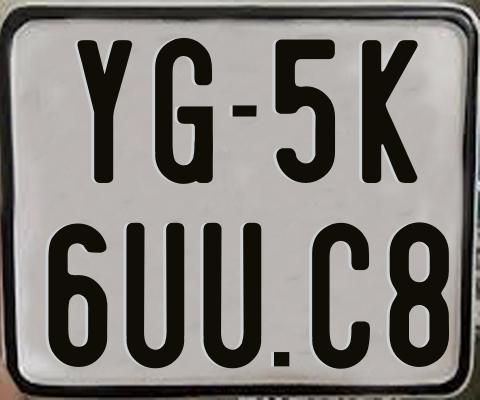5: (275, 36, 341, 185)
6: (48, 223, 111, 371)
8: (386, 221, 450, 371)
C: (312, 221, 370, 372)
G: (155, 38, 213, 190)
K: (362, 38, 419, 184)
U: (126, 221, 188, 372), (202, 223, 261, 370)
Y: (74, 38, 131, 185)
